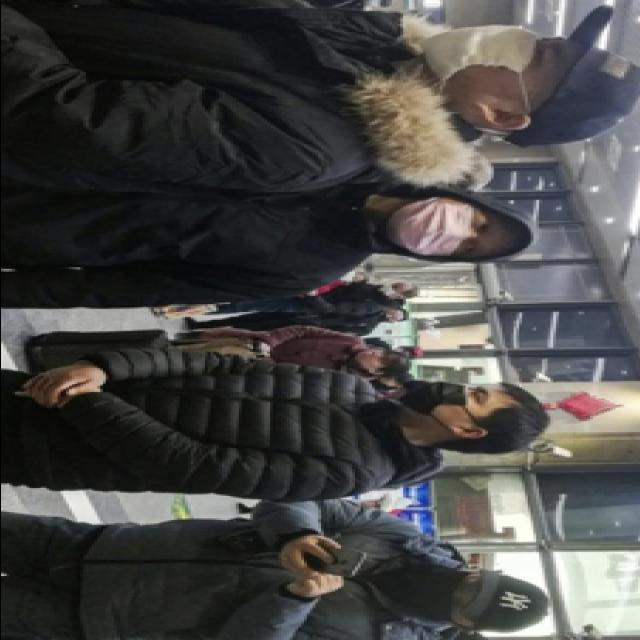with_mask: (422, 24, 552, 104), (385, 197, 493, 259), (399, 570, 479, 622), (408, 380, 493, 426), (376, 284, 416, 298), (340, 270, 368, 284), (377, 309, 402, 323)
without_mask: (351, 350, 391, 370)
